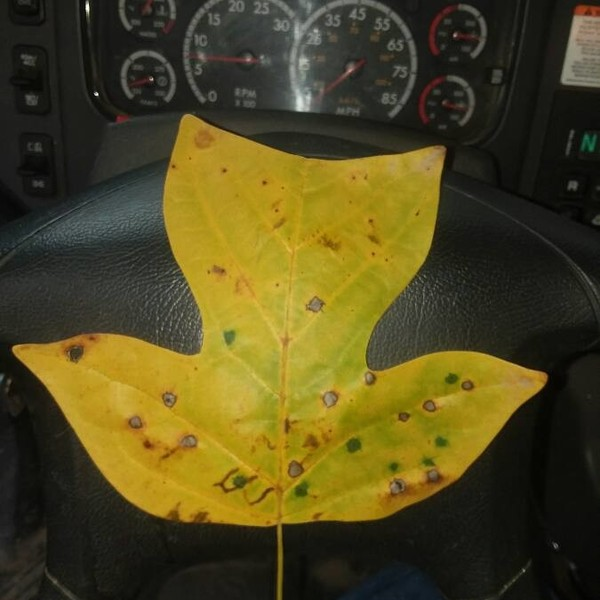obstacle: (53, 109, 542, 568)
